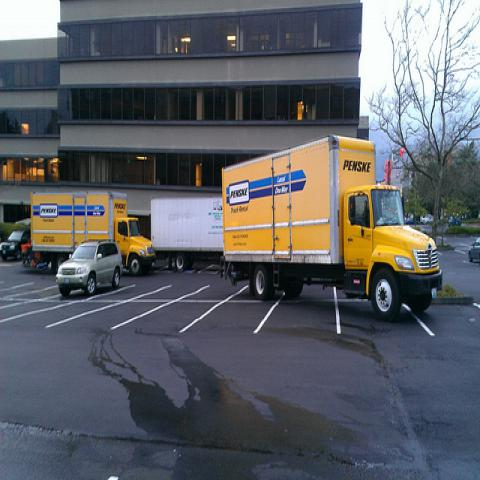car: (57, 236, 125, 298), (1, 229, 31, 260), (469, 237, 479, 262), (448, 214, 462, 228), (422, 214, 434, 226)
truck: (221, 137, 442, 325), (31, 190, 155, 276), (150, 198, 223, 272)
